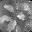people: (4, 4, 15, 13), (8, 21, 17, 31), (17, 12, 26, 21), (4, 15, 14, 23), (0, 14, 8, 21)
